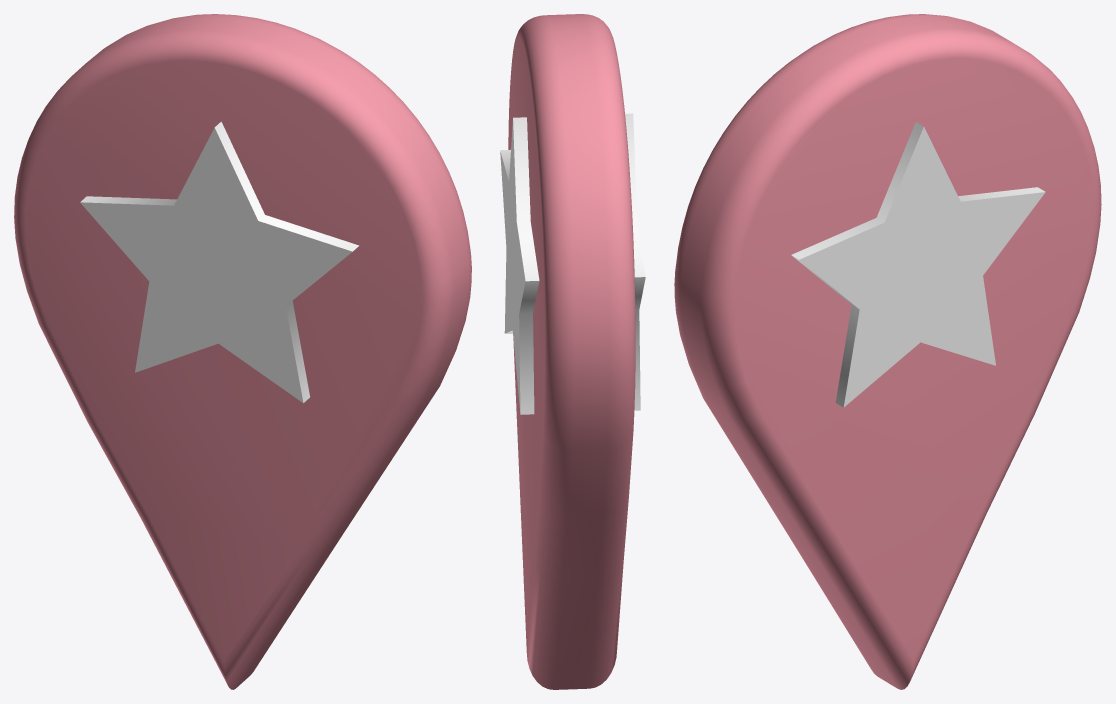
Rendered from anchor.gltf.
The picture shows the model from 3 angles, left to right: view 1: azimuth 30°, elevation 25°; view 2: azimuth 150°, elevation 25°; view 3: azimuth 270°, elevation 25°; orthographic projection.
Parts seen in each view (by area): view 1: 红底, 定位; view 2: 红底, 定位; view 3: 红底, 定位.
Part boxes in pixels (left/top/right/bottom): 红底: left=14, top=14, right=471, bottom=689; 定位: left=80, top=121, right=359, bottom=402; 红底: left=508, top=14, right=635, bottom=689; 定位: left=500, top=113, right=645, bottom=414; 红底: left=674, top=14, right=1101, bottom=689; 定位: left=791, top=122, right=1045, bottom=407.
Size of the model in its own units: 0.3077 by 0.6695 by 0.3969.
